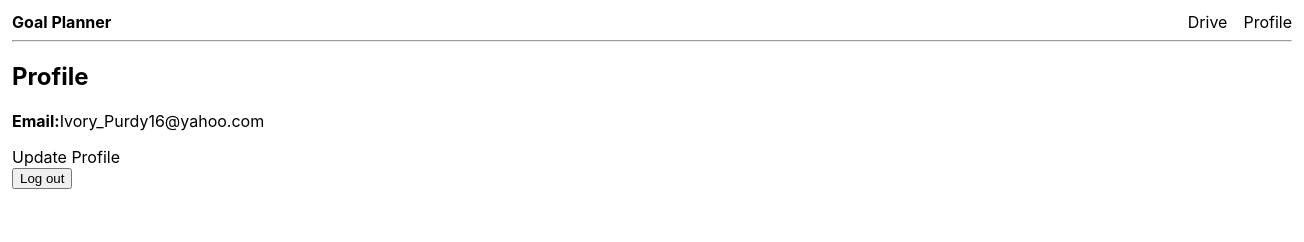
Test: Profile › Expect to fail logout when click button
Click the button: (42, 178) left=12, top=168, right=72, bottom=189
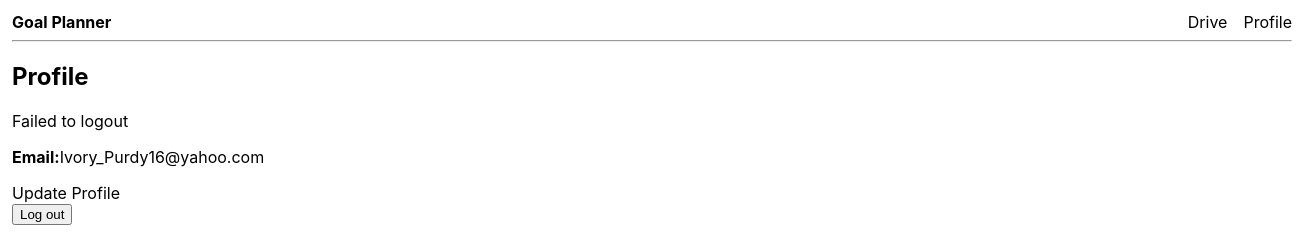
Result: the message reads "Failed to logout" at left=12, top=111, right=128, bottom=131
